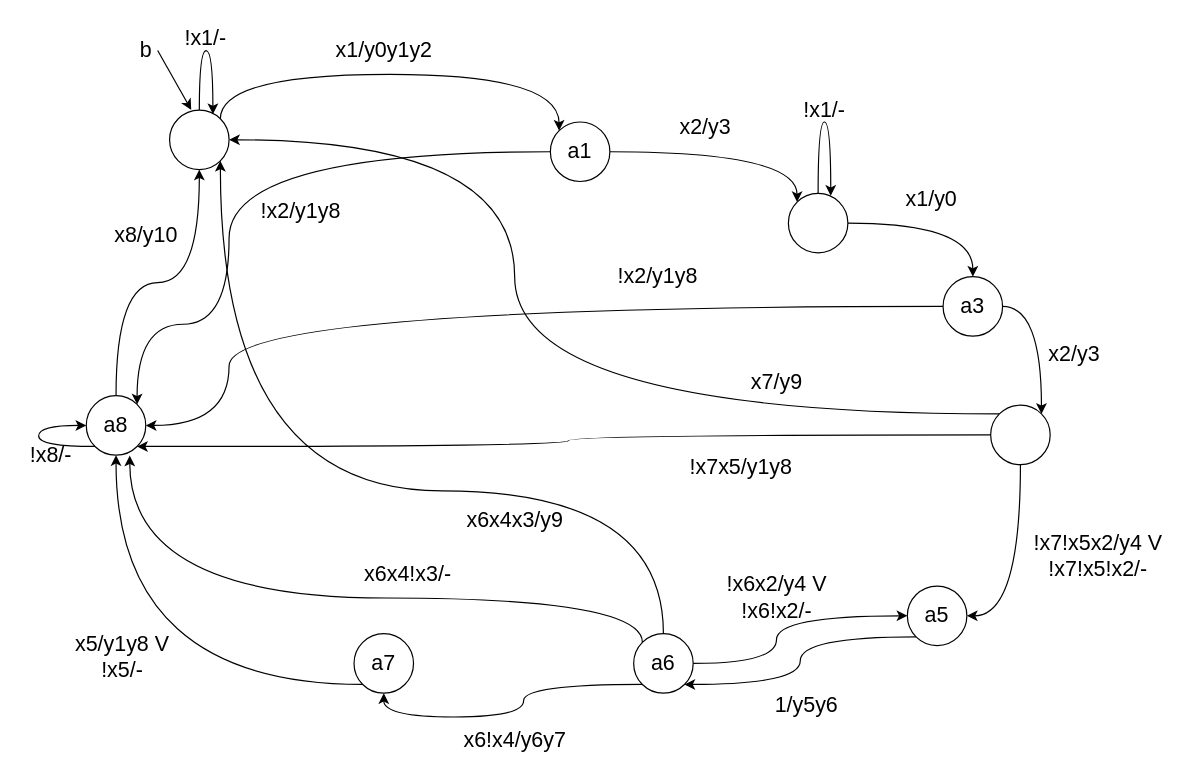
Image size: 1189x778. Some labels were removed from this diagram. The shapes that lost their labels are listed below. From the top down, each one's box as (x1, y1, x2, y2) in pixels, then its label:
(168, 109, 229, 170): a0
(787, 192, 848, 253): a2
(989, 404, 1050, 465): a4
